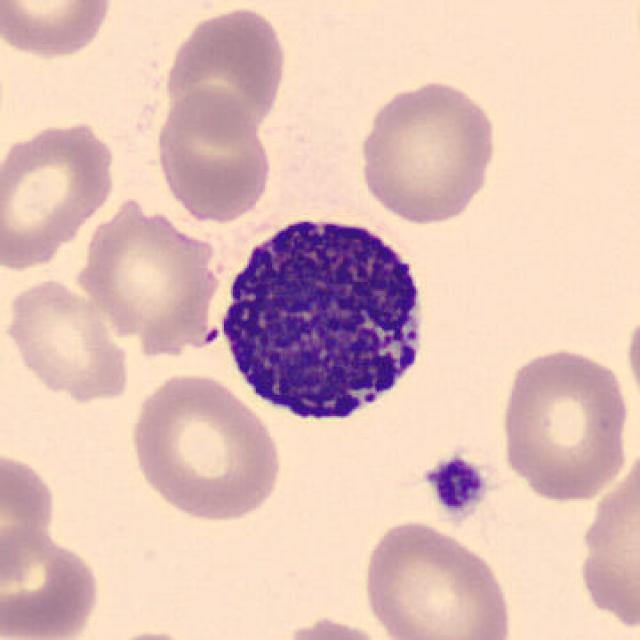Basophil: (208, 199, 437, 434)
Platelets: (425, 453, 489, 520)
RBC: (125, 368, 286, 526), (71, 192, 226, 354), (496, 342, 635, 504), (354, 76, 501, 226), (357, 516, 515, 640), (0, 116, 121, 274), (160, 4, 290, 141), (151, 86, 274, 226), (2, 275, 133, 404), (0, 522, 103, 640), (580, 458, 640, 634), (0, 446, 59, 585), (0, 0, 116, 62), (264, 613, 398, 640), (622, 294, 640, 426), (76, 627, 220, 640)
